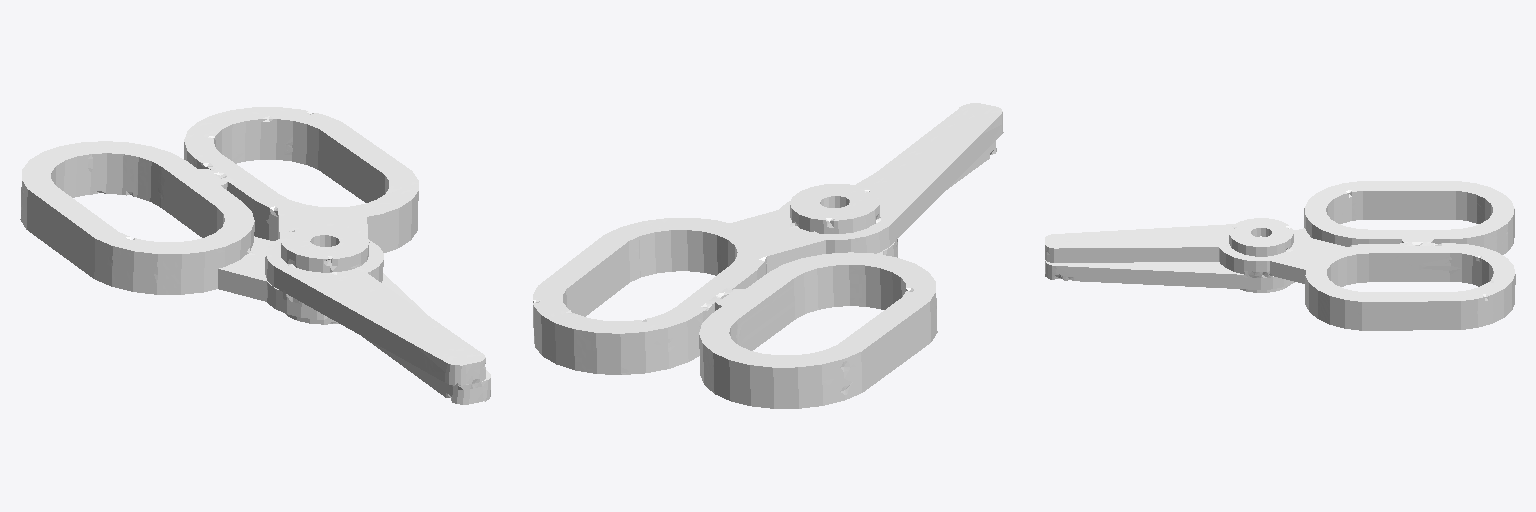
The robot description file, URDF, robot "custom":
<?xml version="1.0"?>
<robot name="custom">
  <material name="Blanc">
    <color rgba="1.0 1.0 1.0 1.0"/>
  </material>
  <link name="base_link">
    <visual>
      <origin xyz="0 0 0" rpy="0 0 0"/>
      <geometry>
        <mesh filename="use_scissors.obj" scale="1 1 1"/>
      </geometry>
      <material name="Blanc"/>
    </visual>
    <collision>
      <origin xyz="0 0 0" rpy="0 0 0"/>
      <geometry>
	 	     <mesh filename="use_scissors.obj" scale="1 1 1"/>
      </geometry>
    </collision>
    <contact>
      <lateral_friction value="5.0"/>
      <rolling_friction value="0.0001"/>
      <inertia_scaling value="3.0"/>
    </contact>
    <inertial>
      <origin rpy="0 0 0" xyz="0 0 0"/>
       <mass value="0.05"/>
       <inertia ixx="1" ixy="0" ixz="0" iyy="1" iyz="0" izz="1"/>
    </inertial>
  </link>

</robot>

--- Render facts (derived) ---
3 views of the same robot in one strip: view 1: azimuth 30°, elevation 25°; view 2: azimuth 150°, elevation 25°; view 3: azimuth 270°, elevation 25° (orthographic).
Model custom with 1 links and 0 joints (none), rooted at base_link, posed all joints at 0.
Links seen in each view (by area): view 1: base_link; view 2: base_link; view 3: base_link.
Boxes of the visible links, x1,y1,x2,y2 form: base_link: (20, 107, 490, 404); base_link: (533, 103, 1003, 408); base_link: (1045, 181, 1515, 330).
Size in the robot's own frame: 0.074 by 0.13 by 0.0147 metres.
Meshes: 1 distinct files referenced, 1 mesh visuals loaded (1 OBJ).
